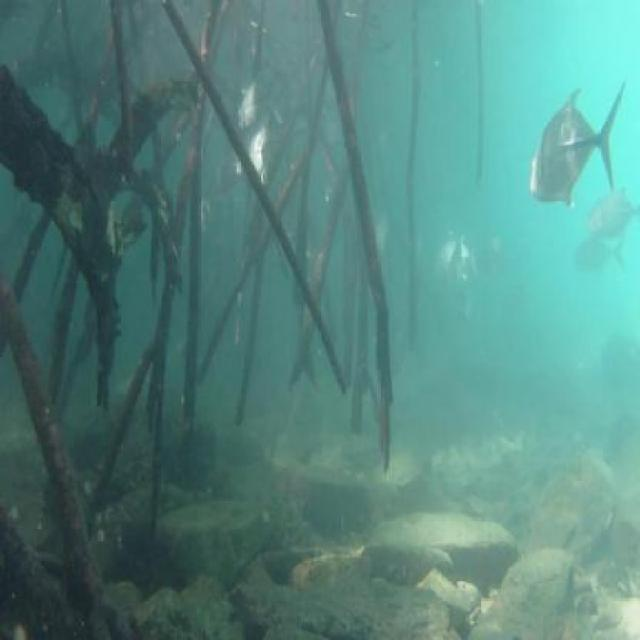Caranx_sexfasciatus_juvenile: (529, 82, 620, 222), (572, 230, 631, 282), (242, 110, 275, 196), (434, 218, 472, 292), (232, 72, 272, 140), (589, 188, 636, 241)
